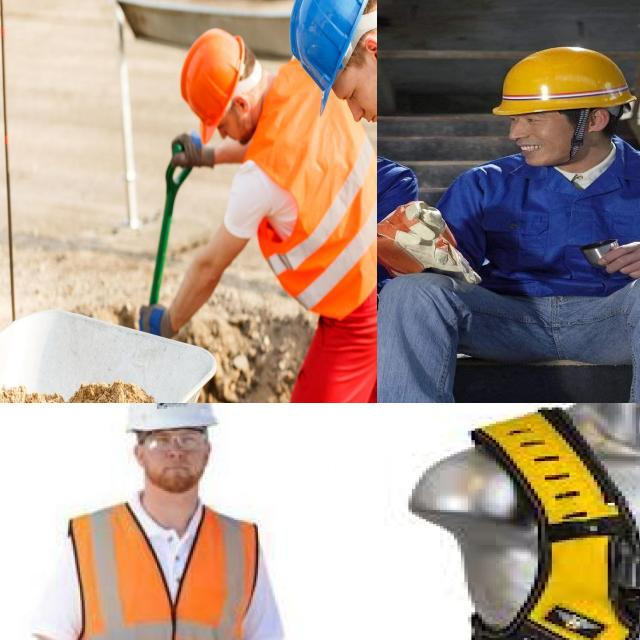Harness: (381, 404, 640, 640)
No_Ear-Protection: (582, 106, 615, 134), (359, 31, 377, 69)
No_Glasses: (492, 112, 562, 128)
face_nomask: (119, 421, 210, 498), (492, 110, 577, 167), (327, 55, 377, 134), (211, 106, 248, 148)
glasses: (144, 431, 214, 452)
hand_glove: (387, 203, 465, 274), (162, 129, 219, 182), (134, 292, 177, 352)
hand_noglove: (593, 238, 640, 287)
head_helmet: (484, 46, 640, 115), (286, 0, 377, 94), (180, 23, 247, 129), (109, 403, 220, 429)
person: (143, 10, 377, 403), (405, 45, 640, 403), (52, 403, 275, 640)
vest: (245, 82, 377, 309), (66, 487, 252, 640)
